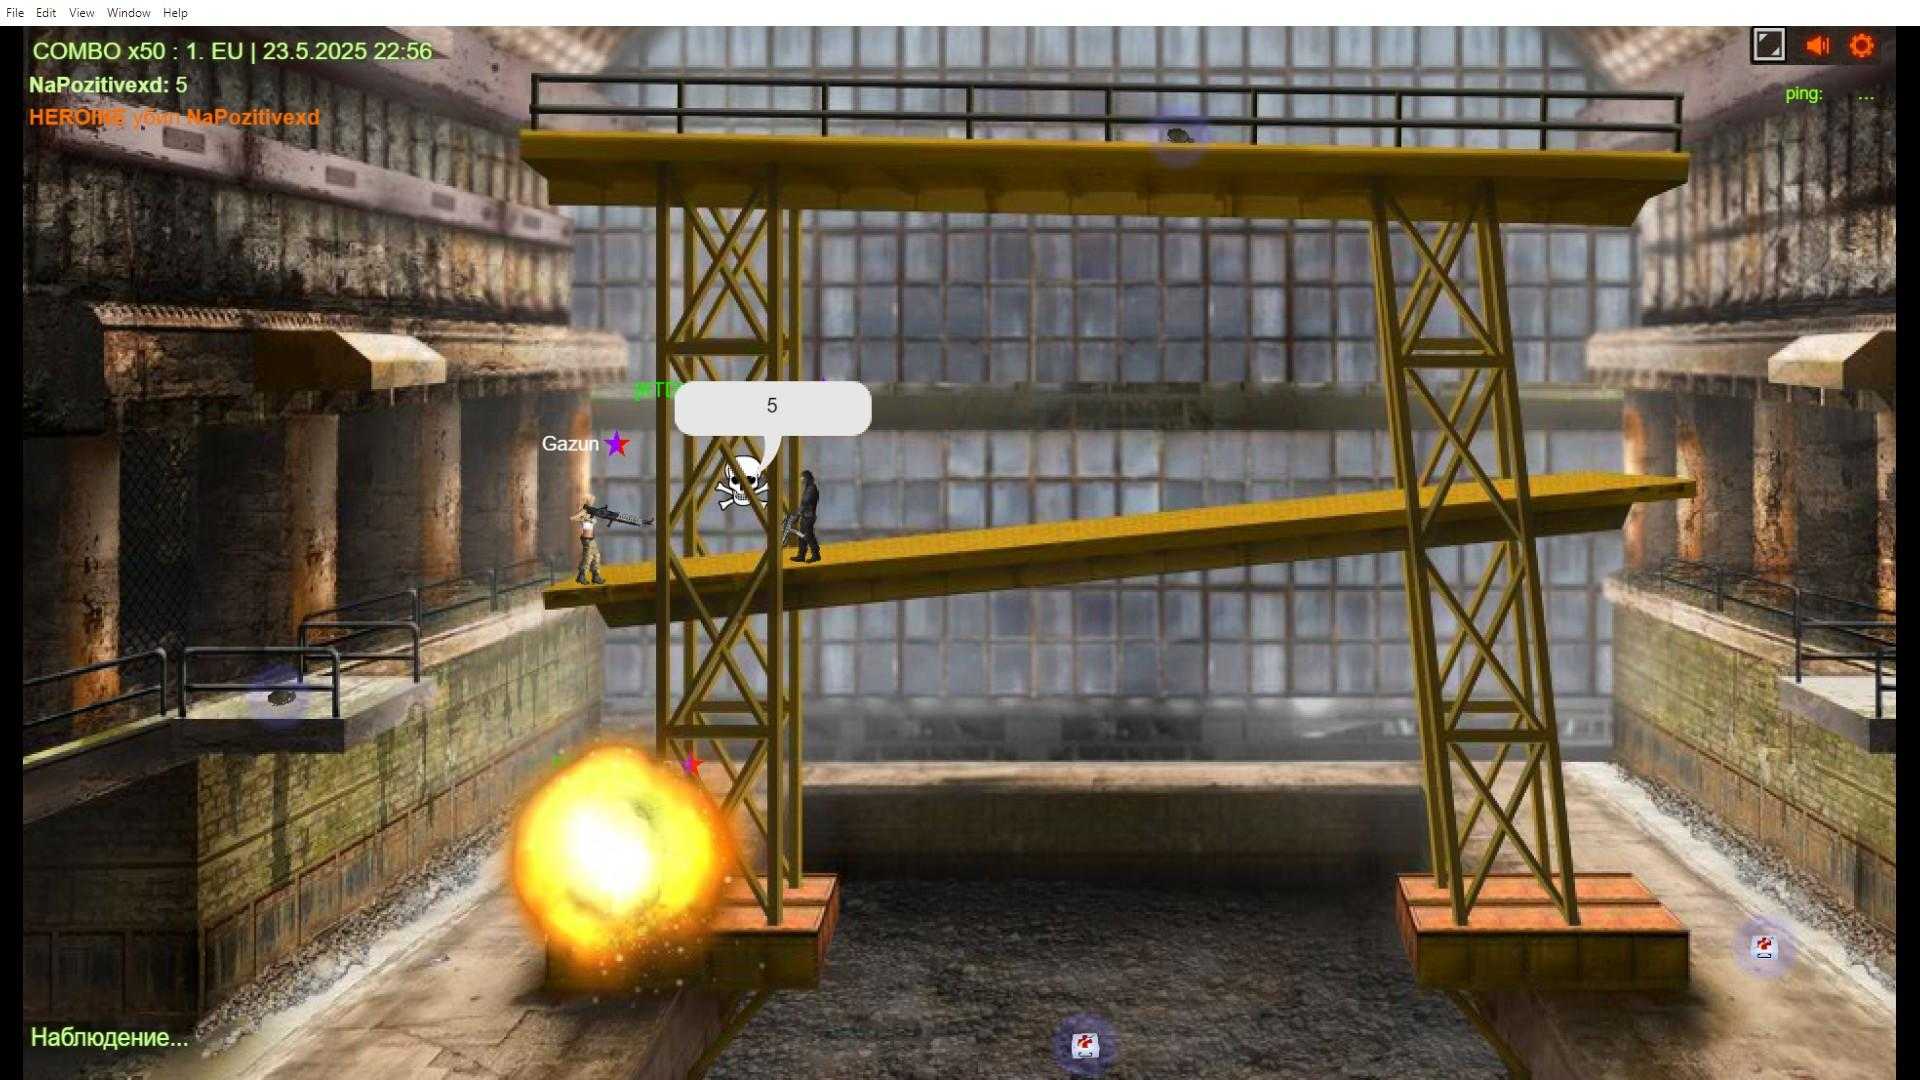enemy: (785, 465, 832, 574), (570, 485, 617, 588)
